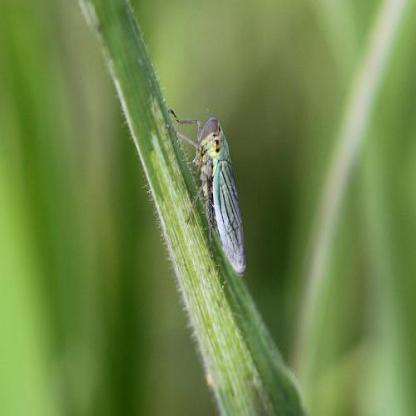Green-Leafhopper: (166, 105, 250, 280)
